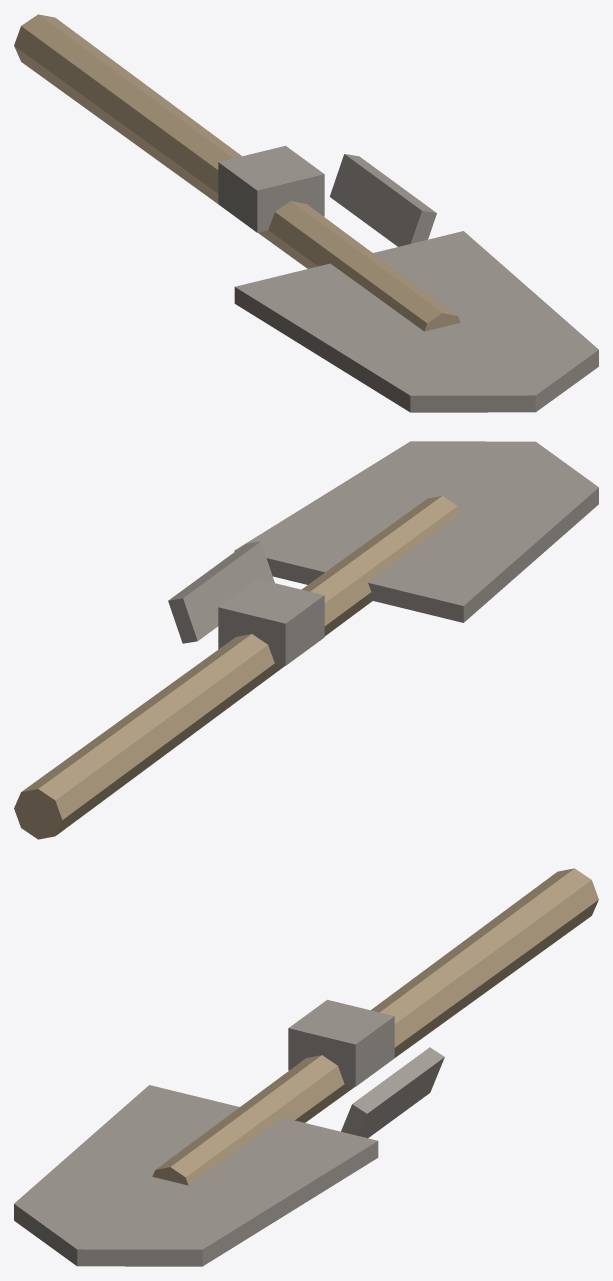
Rendered from trench-line-1917-entrenching-tool-58ecf300__24114.glb.
The picture shows the model from 3 angles, top to bottom: view 1: azimuth 30°, elevation 25°; view 2: azimuth 150°, elevation 25°; view 3: azimuth 330°, elevation 25°; orthographic projection.
Visible parts, largest first — view 1: entrenching-tool; view 2: entrenching-tool; view 3: entrenching-tool.
Boxes of the visible parts, x1=… form: entrenching-tool: x1=14, y1=14, x2=598, y2=412; entrenching-tool: x1=14, y1=441, x2=598, y2=839; entrenching-tool: x1=14, y1=868, x2=598, y2=1266.
Size of the model in its own units: 0.17 by 0.048 by 0.64.
